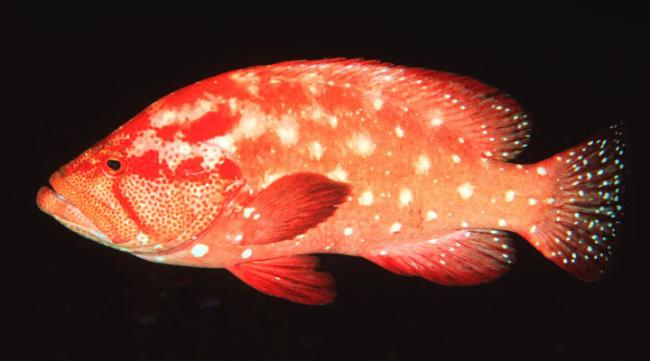fish: (36, 58, 624, 306)
